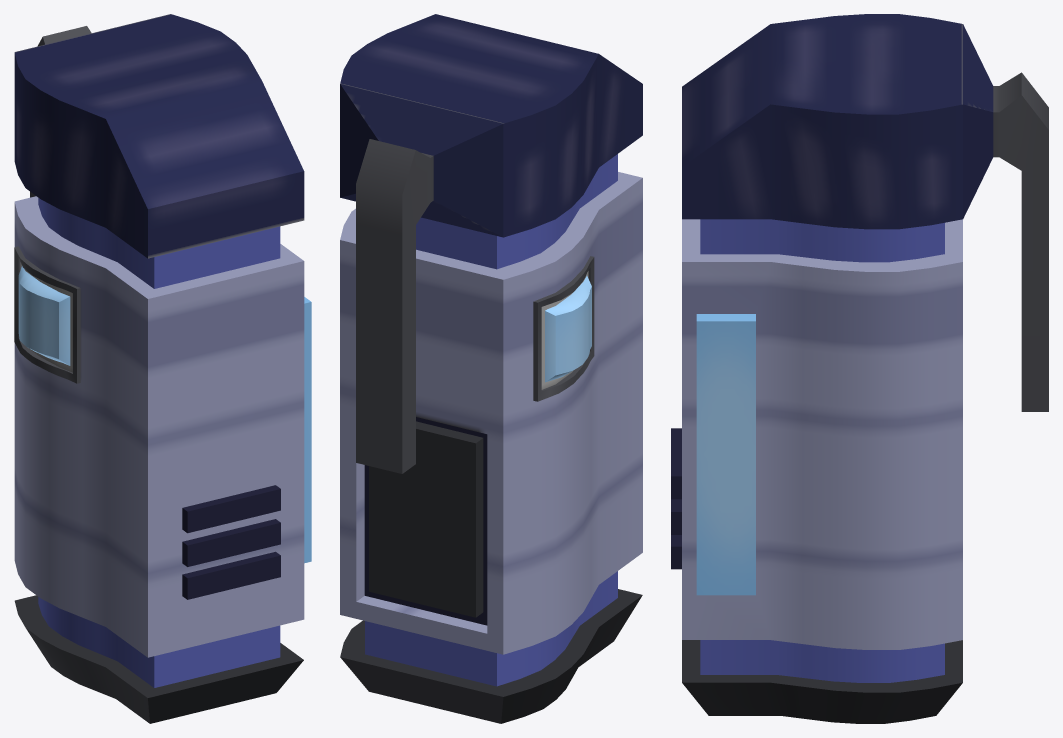
File: EMP.fbx
3 renders of one model, left to right at view 1: azimuth 30°, elevation 25°; view 2: azimuth 150°, elevation 25°; view 3: azimuth 270°, elevation 25°, orthographic. The views are drawn at different scales.
Parts seen in each view (by area): view 1: EMP; view 2: EMP; view 3: EMP.
Boxes of the visible parts, x1=… form: EMP: x1=14, y1=14, x2=311, y2=723; EMP: x1=340, y1=14, x2=642, y2=723; EMP: x1=671, y1=14, x2=1048, y2=723.
Size of the model in its own units: 244 by 660 by 365.
